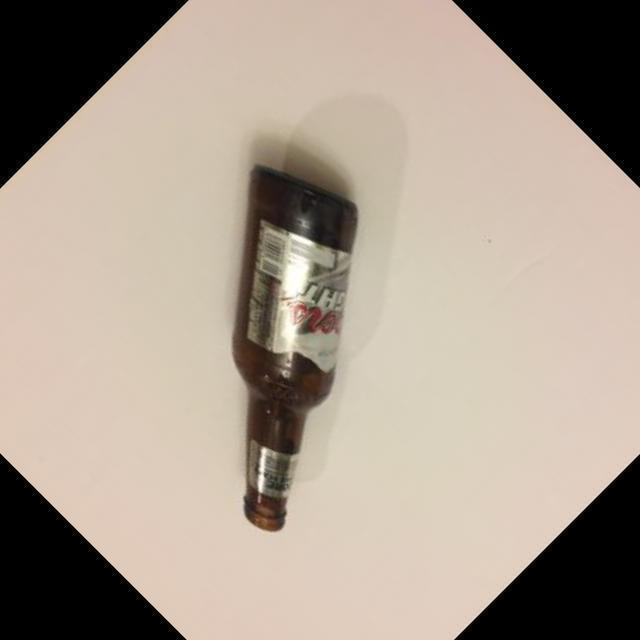BotolKaca: (229, 162, 359, 531)
